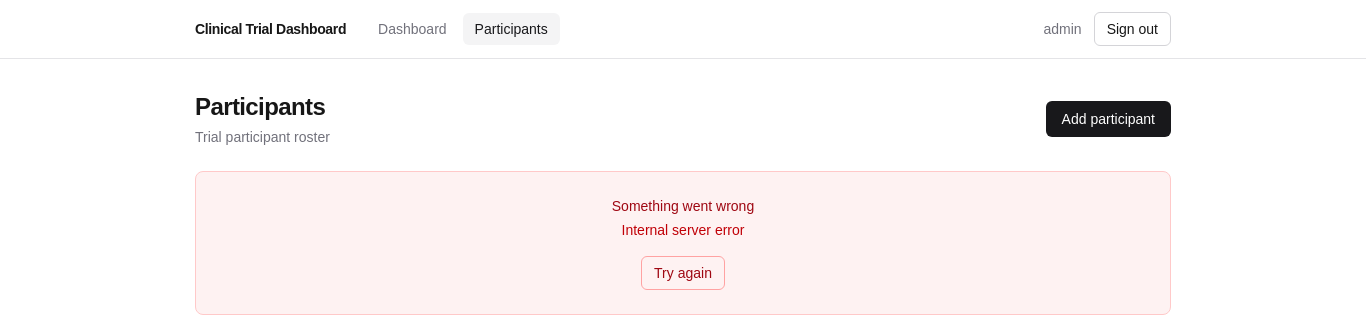
it: participants list states › shows the error state with the backend detail, and retries
Expected: the message shows "Something went wrong", [612,198,754,214]
Expected: the message shows "Internal server error", [622,222,744,238]
Step 1. Click the button "Try again" → (683, 273), box [641,256,725,290]
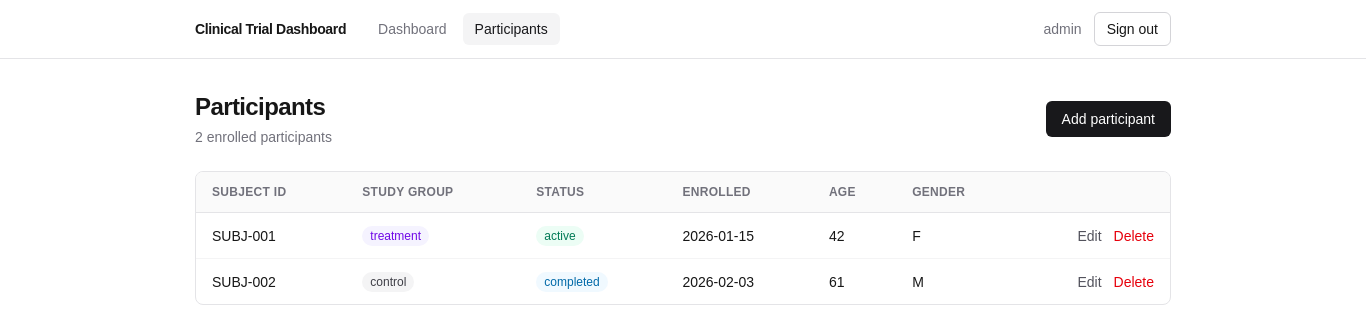
Expected: the text "SUBJ-001" is shown, [196,212,346,258]
